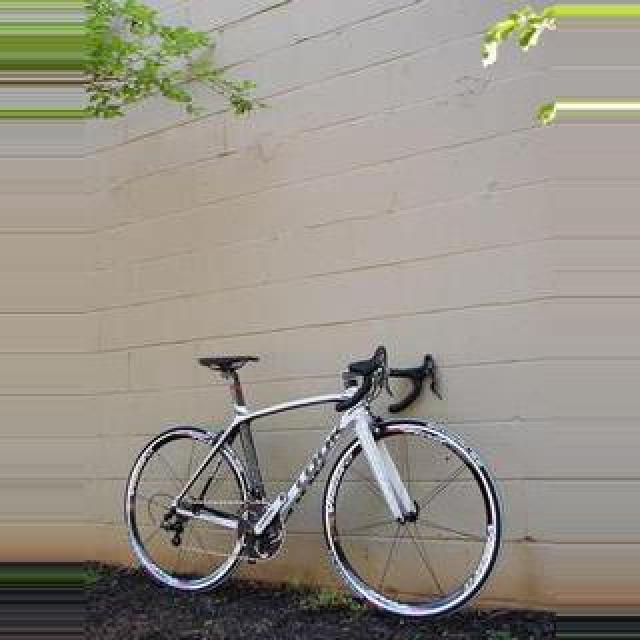Person: (112, 344, 512, 620)
